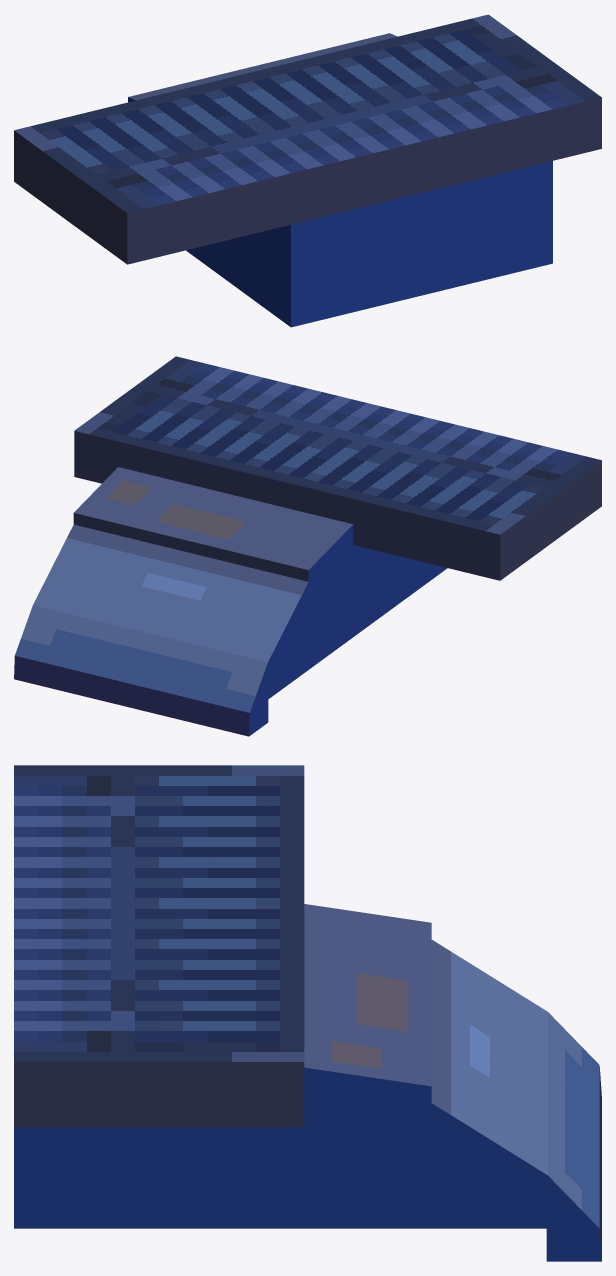
The model's file is df21_dynamic_radiator.obj.
The picture shows the model from 3 angles, top to bottom: view 1: azimuth 30°, elevation 25°; view 2: azimuth 150°, elevation 25°; view 3: azimuth 270°, elevation 25°; orthographic projection. The views are drawn at different scales.
Visible parts, largest first — view 1: cuboid_selection_selection_selection_selection_selection_selecti; view 2: cuboid_selection_selection_selection_selection_selection_selecti; view 3: cuboid_selection_selection_selection_selection_selection_selecti.
Boxes of the visible parts, x1,y1,x2,y2 form: cuboid_selection_selection_selection_selection_selection_selecti: (14,14,601,327); cuboid_selection_selection_selection_selection_selection_selecti: (14,356,601,736); cuboid_selection_selection_selection_selection_selection_selecti: (14,765,601,1261).
Size of the model in its own units: 1.81 by 0.6562 by 1.52.
